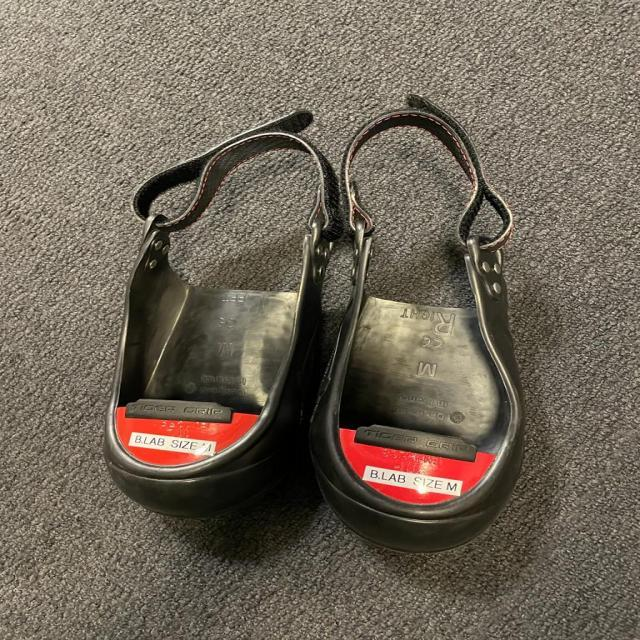shoes: (98, 114, 344, 518), (324, 96, 530, 543)
